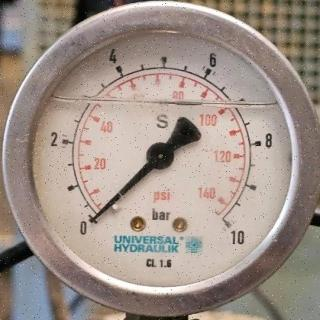gauge: (20, 19, 306, 304), (76, 313, 314, 319), (210, 208, 246, 244), (74, 204, 110, 238), (145, 141, 175, 171), (86, 212, 102, 226)
